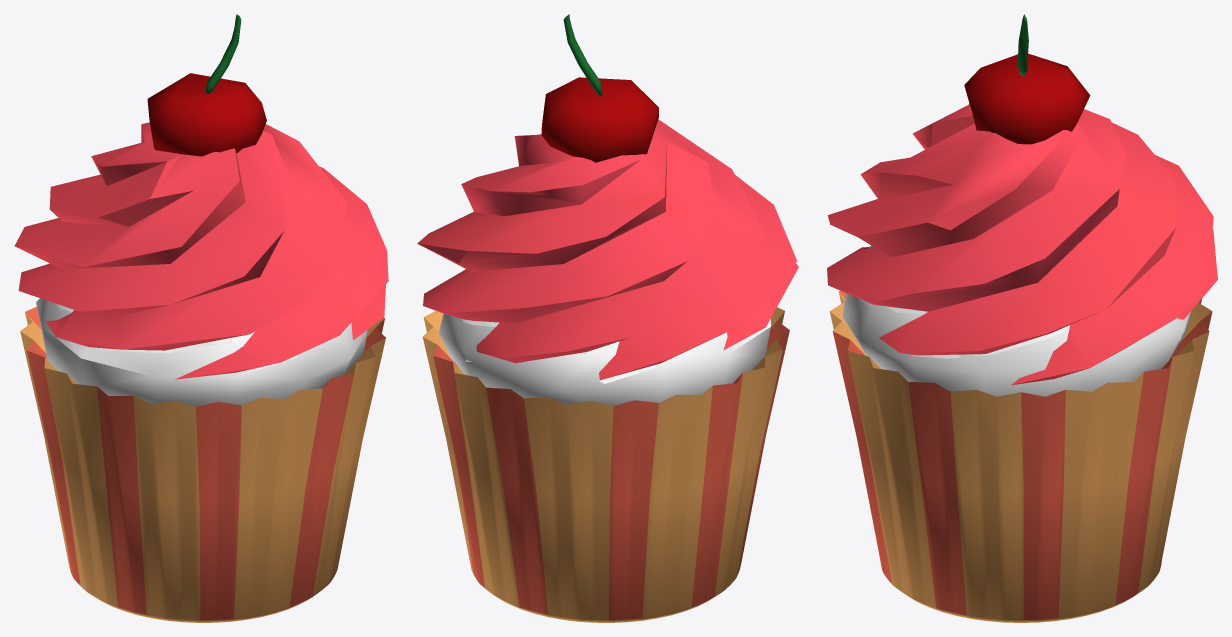
Rendered from Cupcake.fbx.
3 views of the same model, side by side, from view 1: azimuth 30°, elevation 25°; view 2: azimuth 150°, elevation 25°; view 3: azimuth 270°, elevation 25° (orthographic). The views are drawn at different scales.
Visible parts, largest first — view 1: Cupcake; view 2: Cupcake; view 3: Cupcake.
Part boxes in pixels (x1,y1,x2,y2): Cupcake: [14, 14, 388, 622]; Cupcake: [417, 14, 798, 622]; Cupcake: [827, 14, 1217, 622].
Size of the model in its own units: 274 by 437 by 271.
